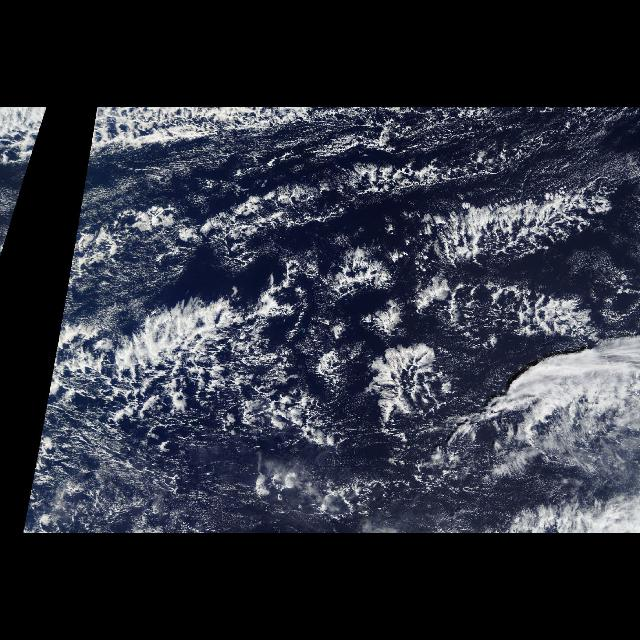Fish: (108, 172, 640, 432)
Gravel: (66, 328, 350, 459)
Sugar: (106, 110, 638, 192), (63, 416, 255, 530)
